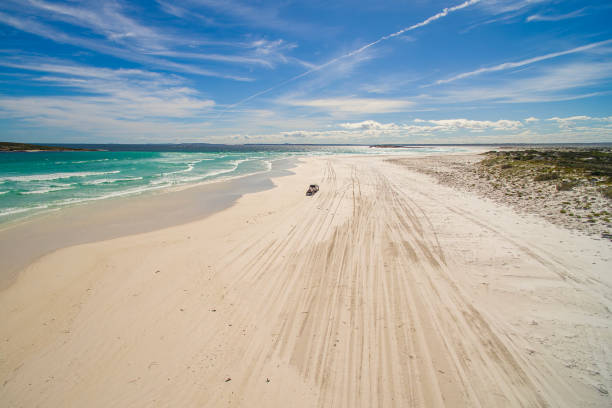vehicle_track: (230, 160, 546, 406)
